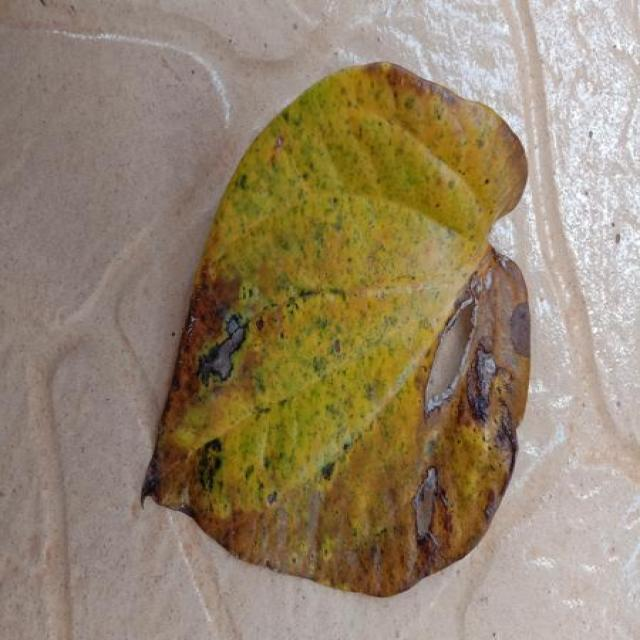defected betel: (148, 249, 528, 595)
disease in leaf: (143, 62, 530, 596)
